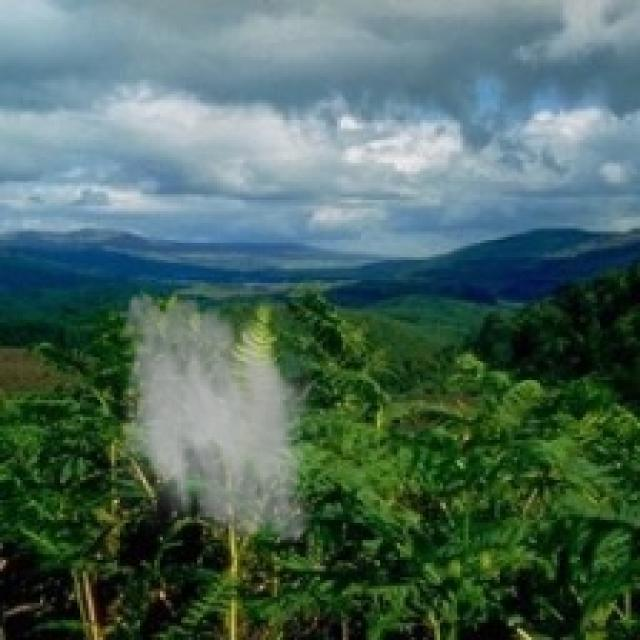Smoke: (109, 282, 328, 554)
